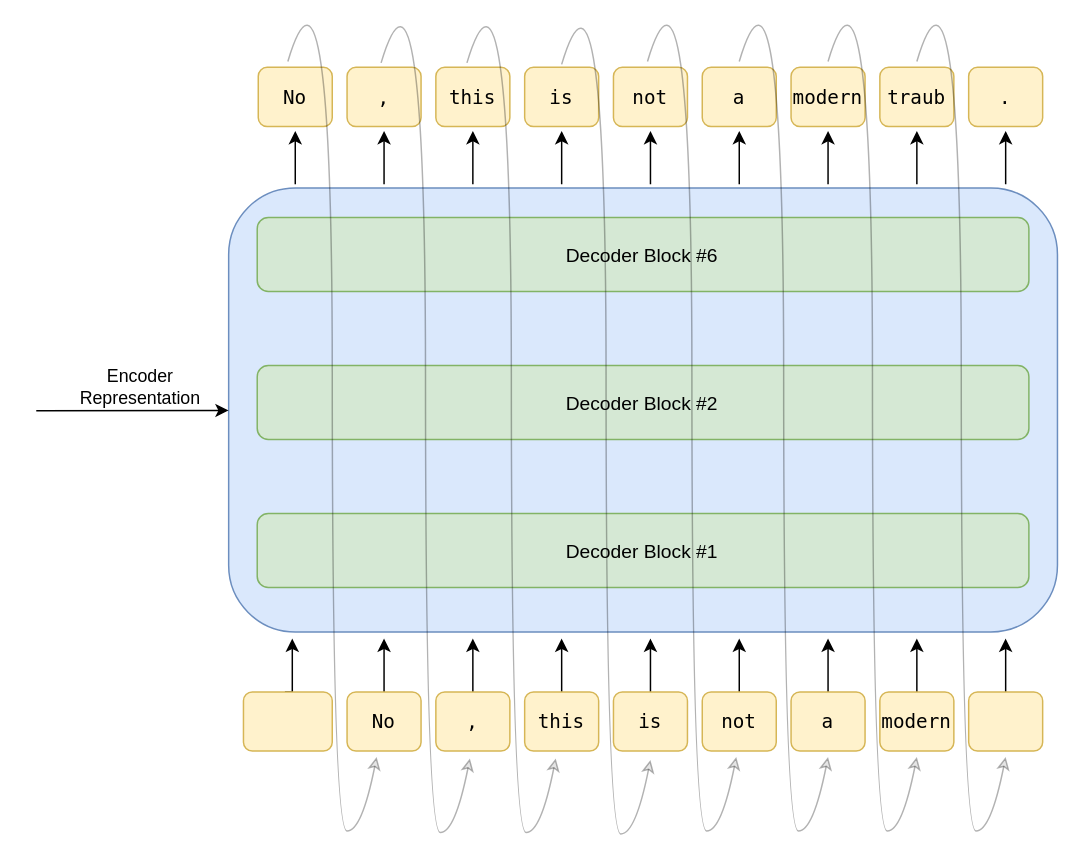
The diagram is 1083 pixels wide and 861 high, and some of its shapes have lost their labels. Each missing label, with the centre of its shape:
"[START]" goes at pixel 287 720.
"train" goes at pixel 1005 720.
